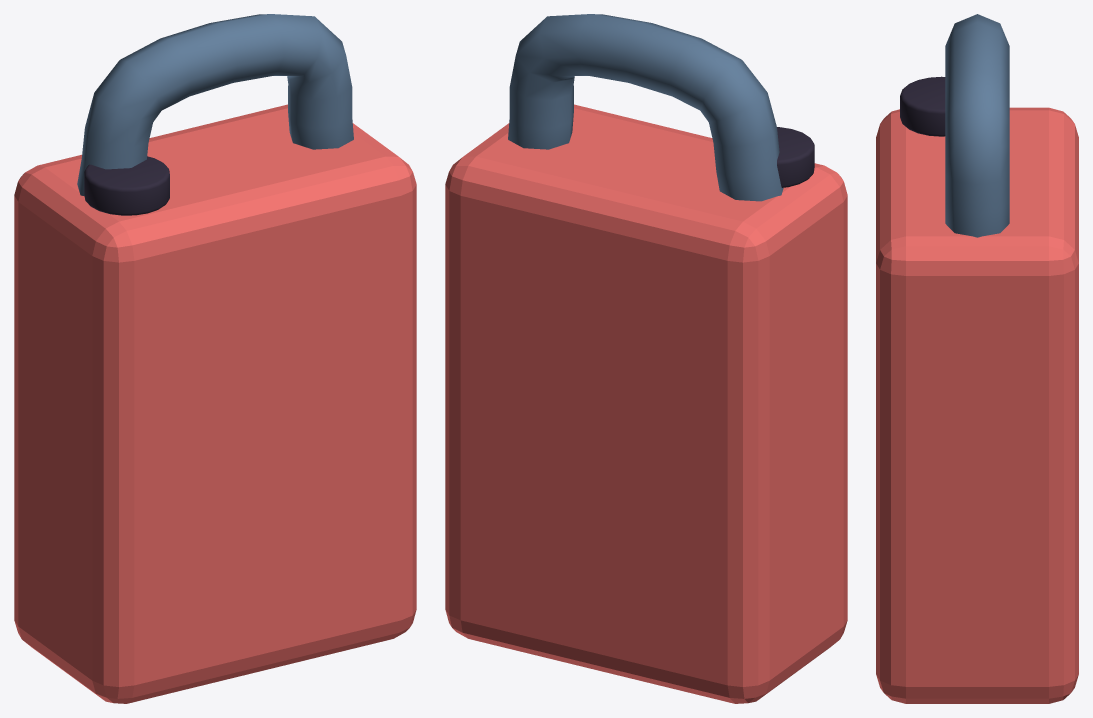
File: jerrycan_red.glb
The picture shows the model from 3 angles, left to right: view 1: azimuth 30°, elevation 25°; view 2: azimuth 150°, elevation 25°; view 3: azimuth 270°, elevation 25°; orthographic projection. The views are drawn at different scales.
Parts seen in each view (by area): view 1: Body, Handle, Cap; view 2: Body, Handle, Cap; view 3: Body, Handle, Cap.
Boxes of the visible parts, <box> form: Body: <box>14,104,416,703</box>; Handle: <box>77,14,353,196</box>; Cap: <box>84,156,169,215</box>; Body: <box>445,104,847,703</box>; Handle: <box>508,14,783,201</box>; Cap: <box>777,127,814,187</box>; Body: <box>876,107,1078,703</box>; Handle: <box>945,14,1009,237</box>; Cap: <box>900,76,945,136</box>.
Bounding box in the file's own units: 0.3 × 0.5532 × 0.17.
